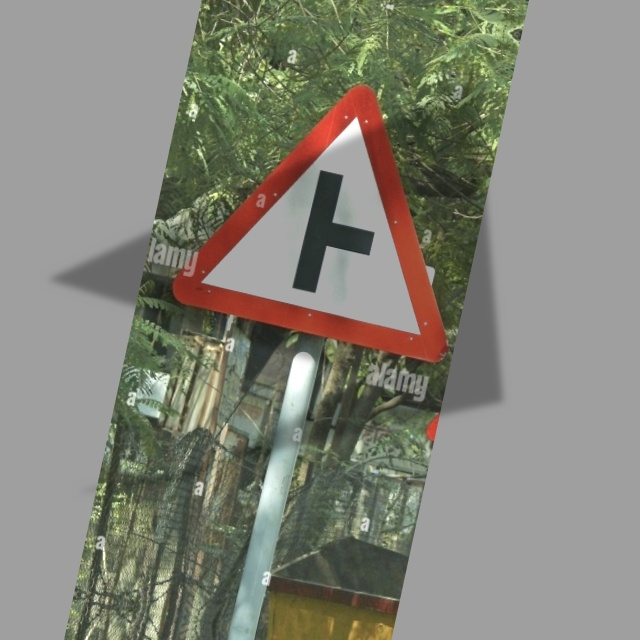Side_Road_Right: (172, 54, 496, 369)
